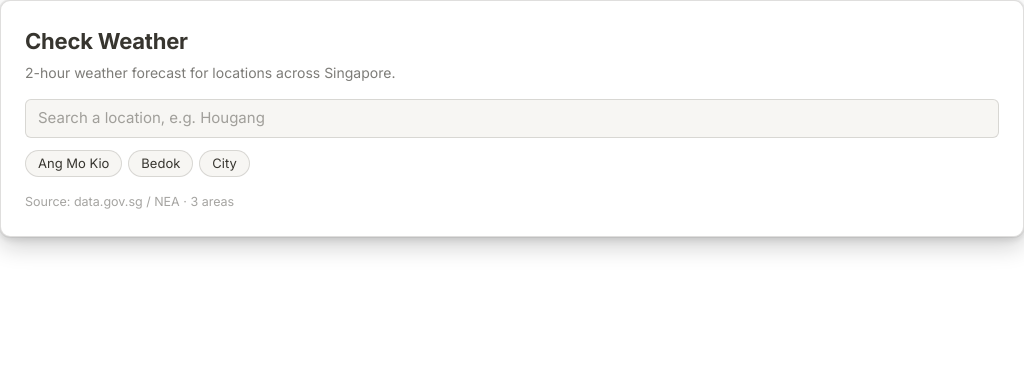
WeatherForecast › supports quick-pick chips
Step 1. Click the button "Ang Mo Kio" → (74, 163), box [25,150,122,177]
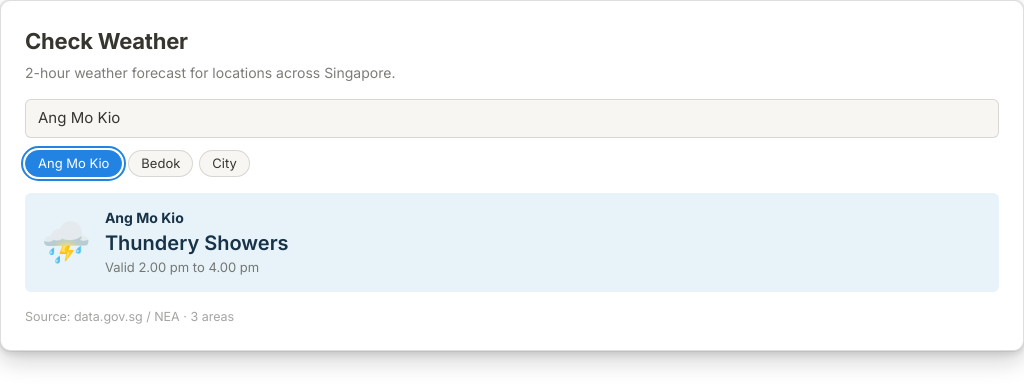
Result: the message shows "Thundery Showers" at [105,231,289,255]
